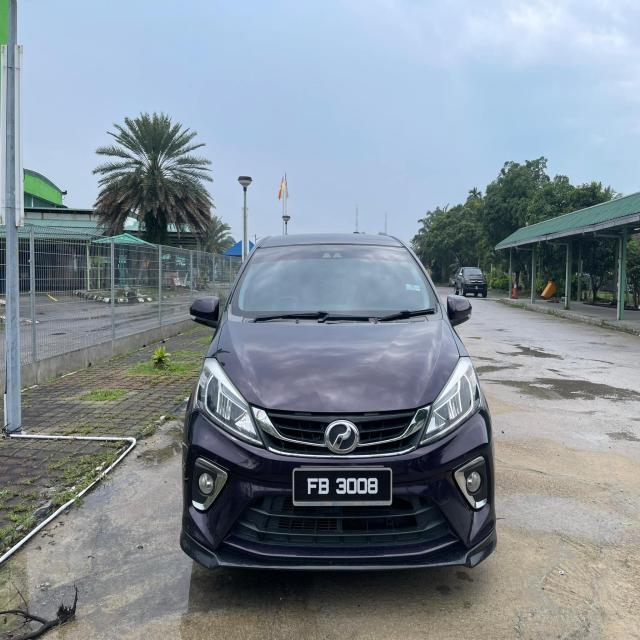PeroduaMyvi: (179, 230, 498, 574)
